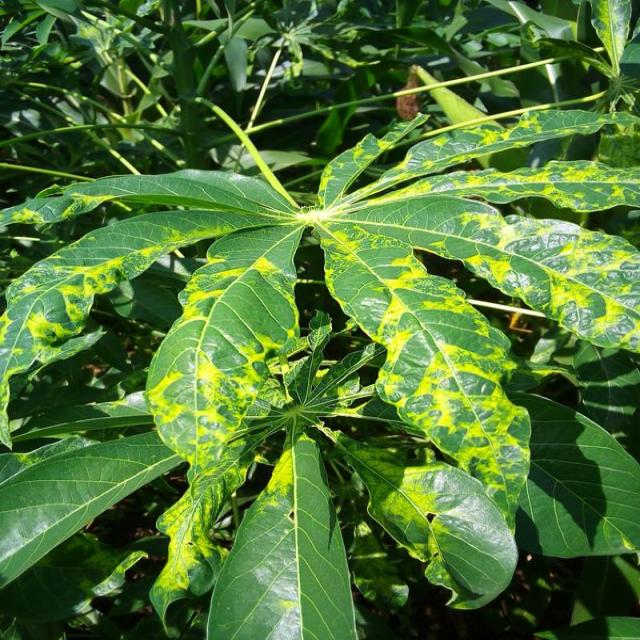cassava leaf: (2, 85, 639, 632), (206, 436, 358, 638)
